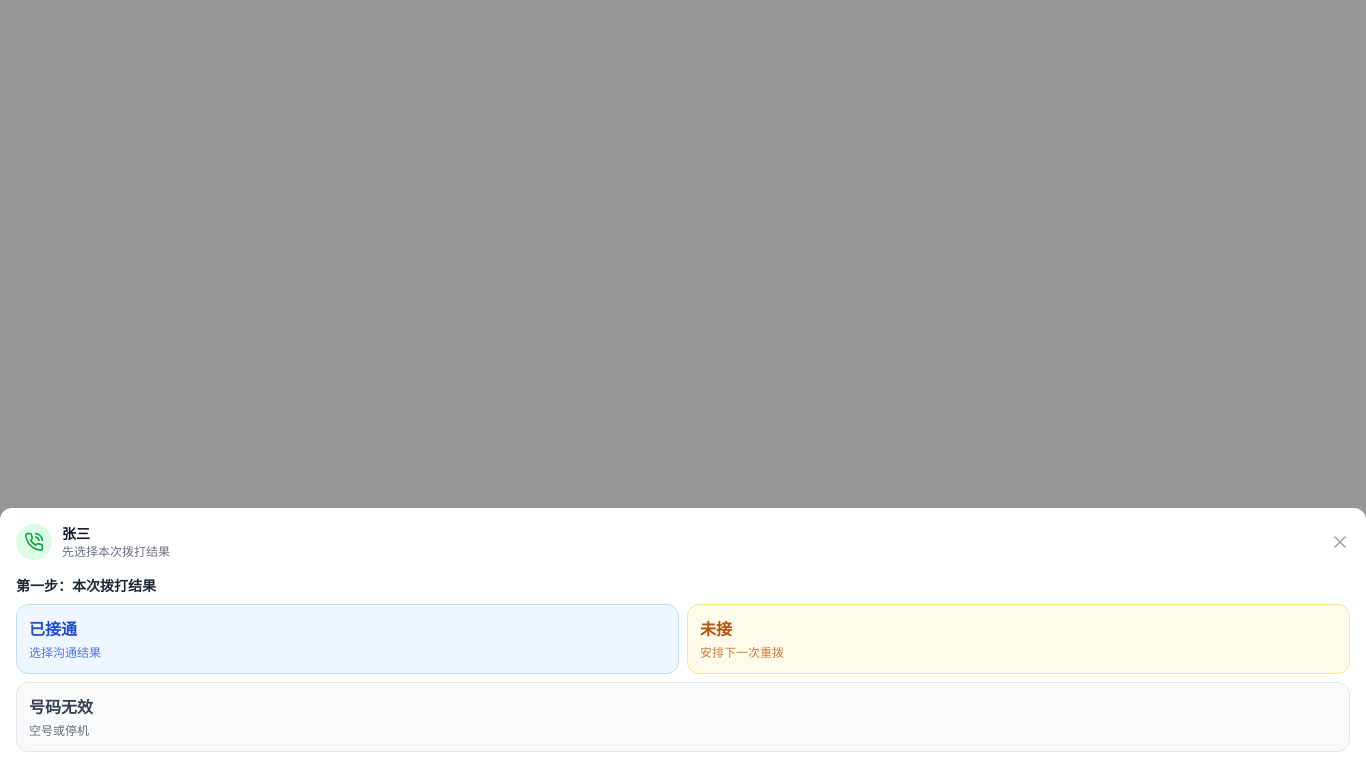
recordCallResult › keeps the result sheet open when fixed invalid save fails
Click the button "号码无效 空号或停机" at x=61, y=707, box [16,682,1350,752]
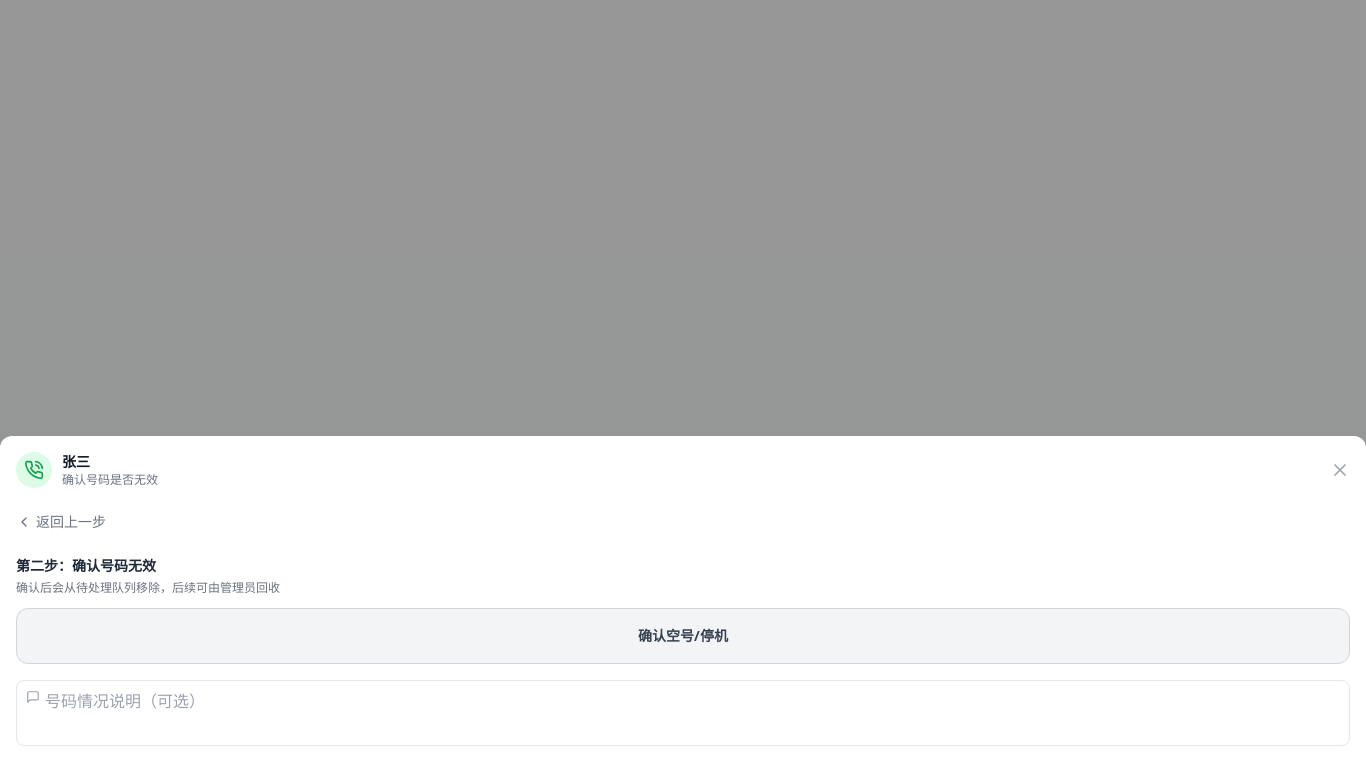
Click the button "确认空号/停机" at x=683, y=636, box [16,608,1350,664]
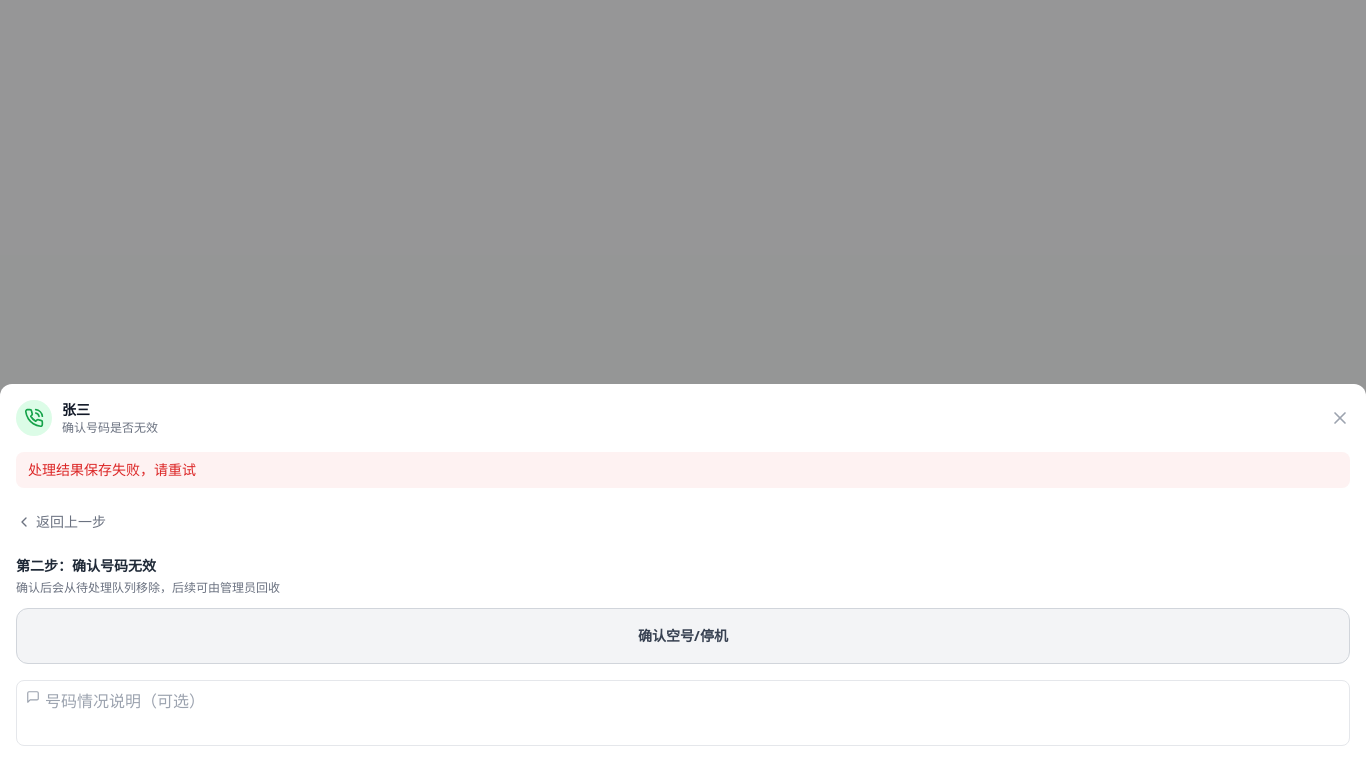
Expected: the text "张三" is shown, [62,400,90,419]
Result: the button "确认空号/停机" is enabled at [16,608,1350,664]
Result: the message reads "处理结果保存失败，请重试" at [28,460,196,479]
